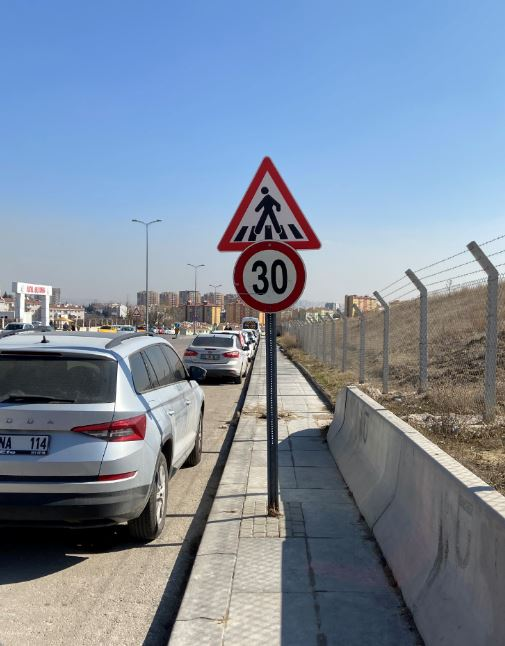30 Km Hiz Siniri: (234, 236, 307, 316)
Yaya Gecidi: (215, 153, 321, 247)
